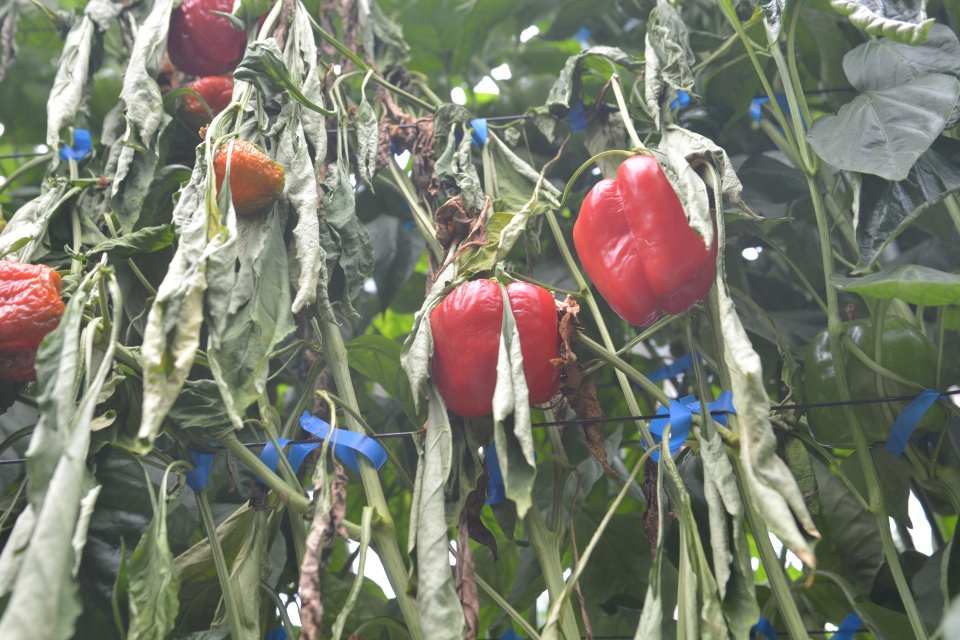fruit: (571, 154, 719, 328), (802, 312, 949, 452), (428, 277, 562, 418), (0, 257, 66, 384), (165, 0, 249, 77), (213, 136, 286, 217), (181, 74, 234, 119)
